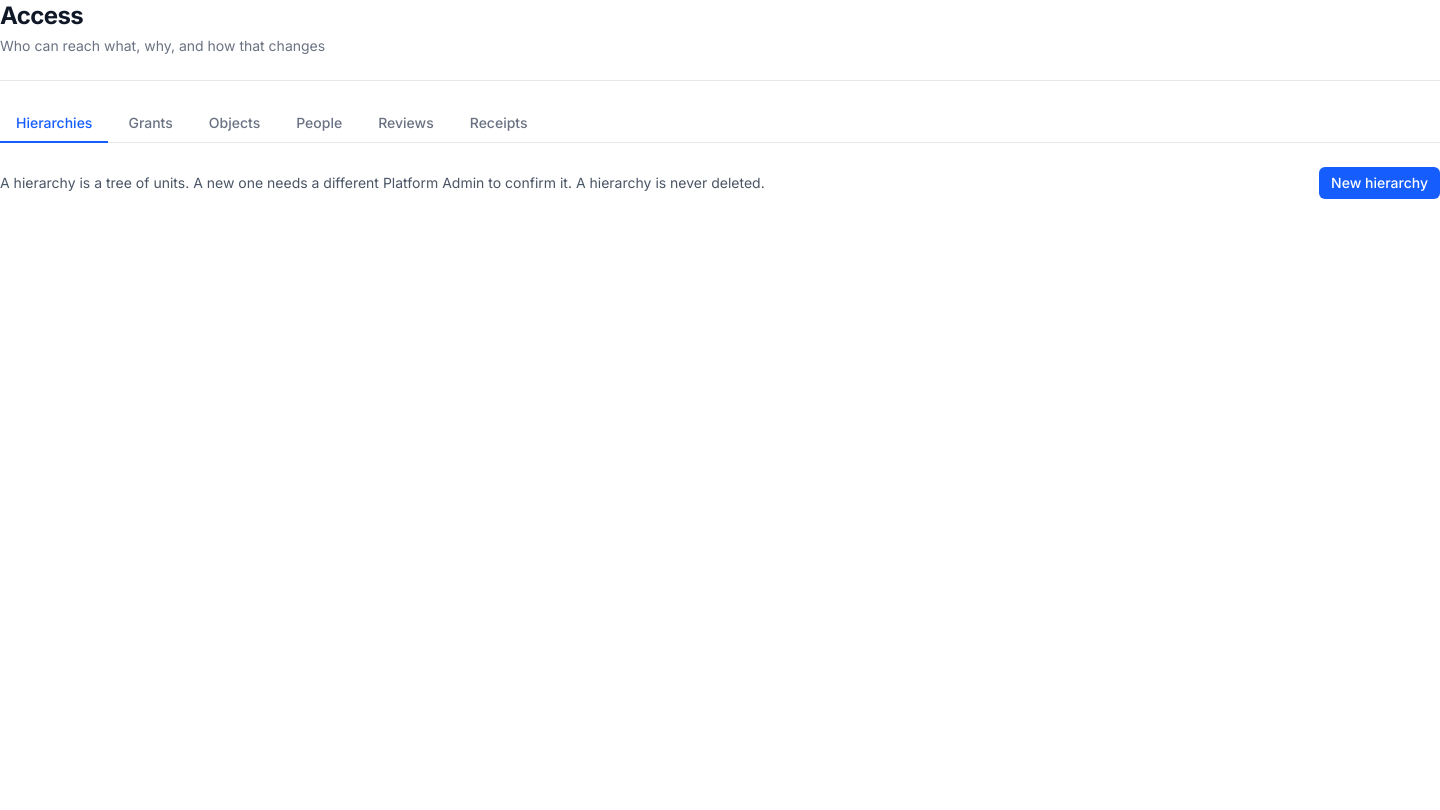
Test: Access section: hierarchies › New hierarchy proposes a change and says who must confirm it
Click the button "New hierarchy": coordinates (1380, 183) [1319,167,1439,199]
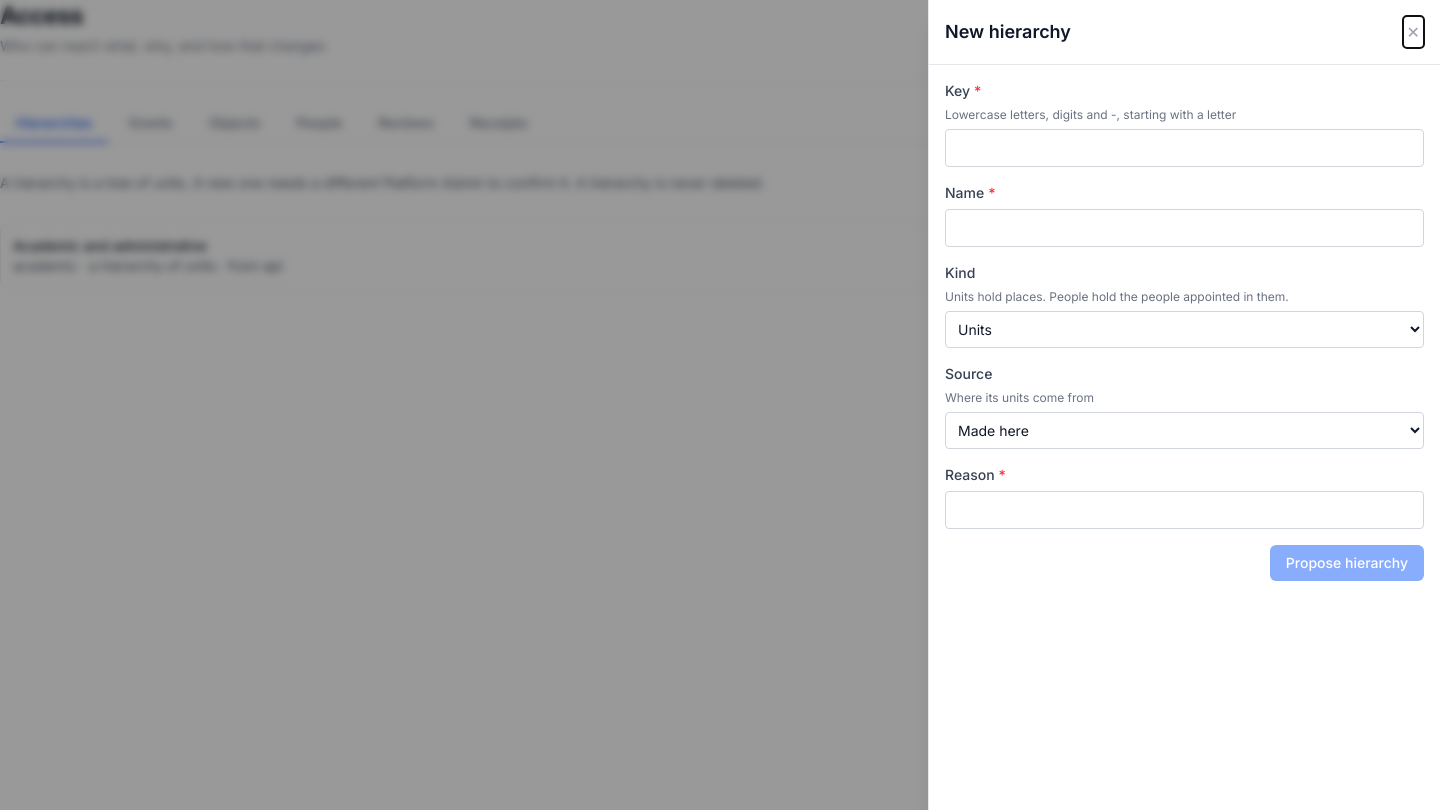
In the field labelled "Key*": coordinates (1184, 148) [945,129,1424,167], type "campus"
In the field labelled "Name*": coordinates (1184, 228) [945,209,1424,247], type "Campus"
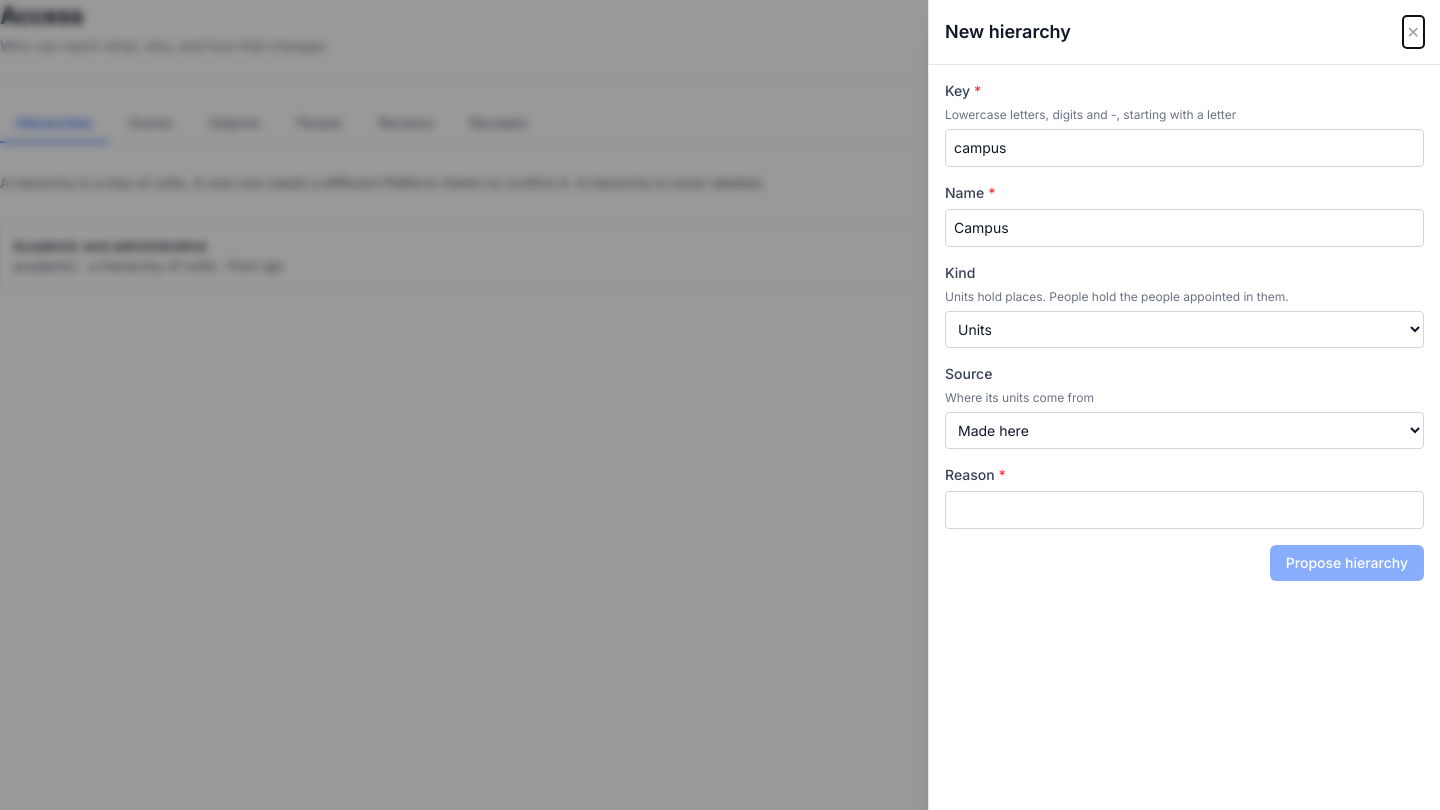
Select "People" in the dropdown labelled "Kind": coordinates (1184, 330) [945,311,1424,348]
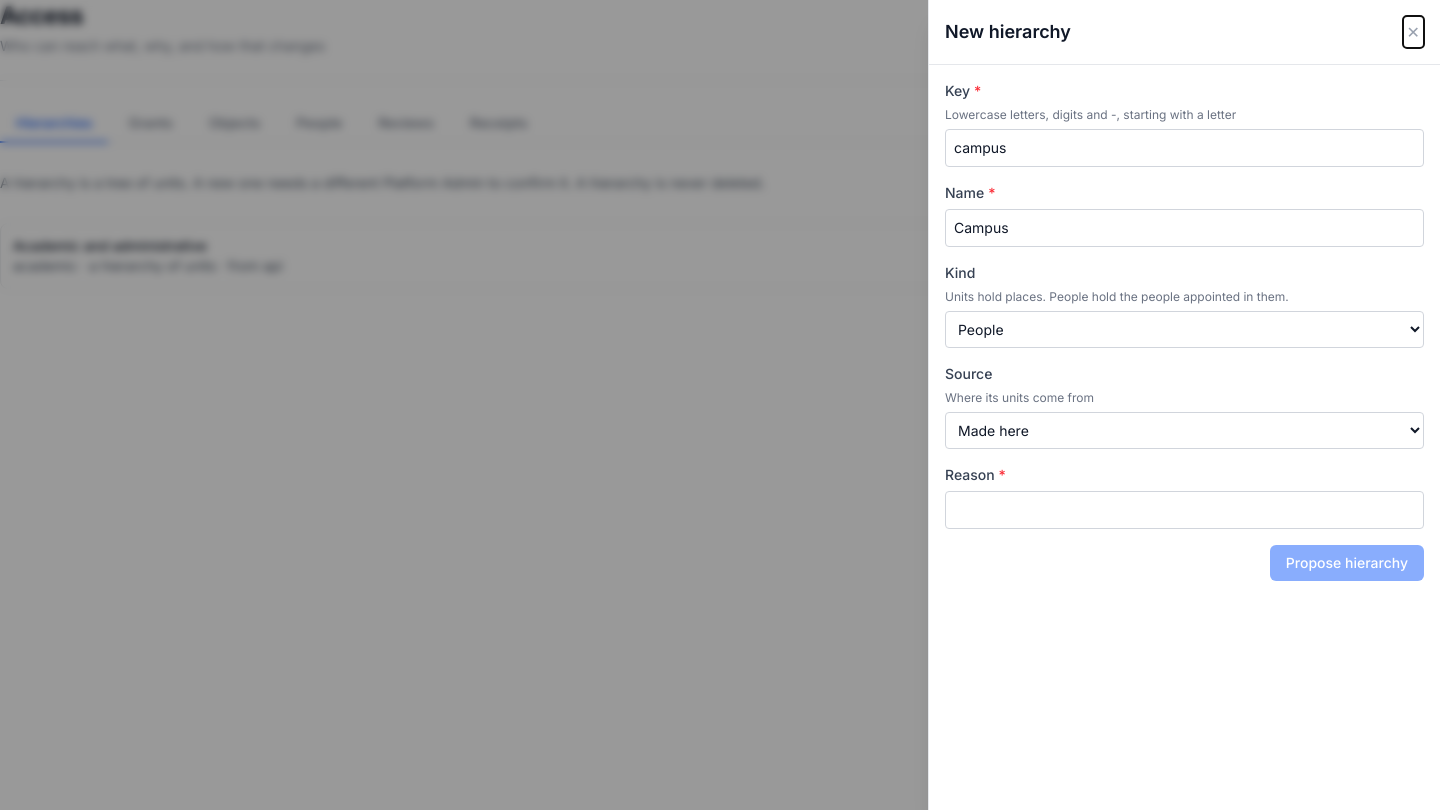
Select "Kept by SCIM" in the dropdown labelled "Source": coordinates (1184, 430) [945,412,1424,449]
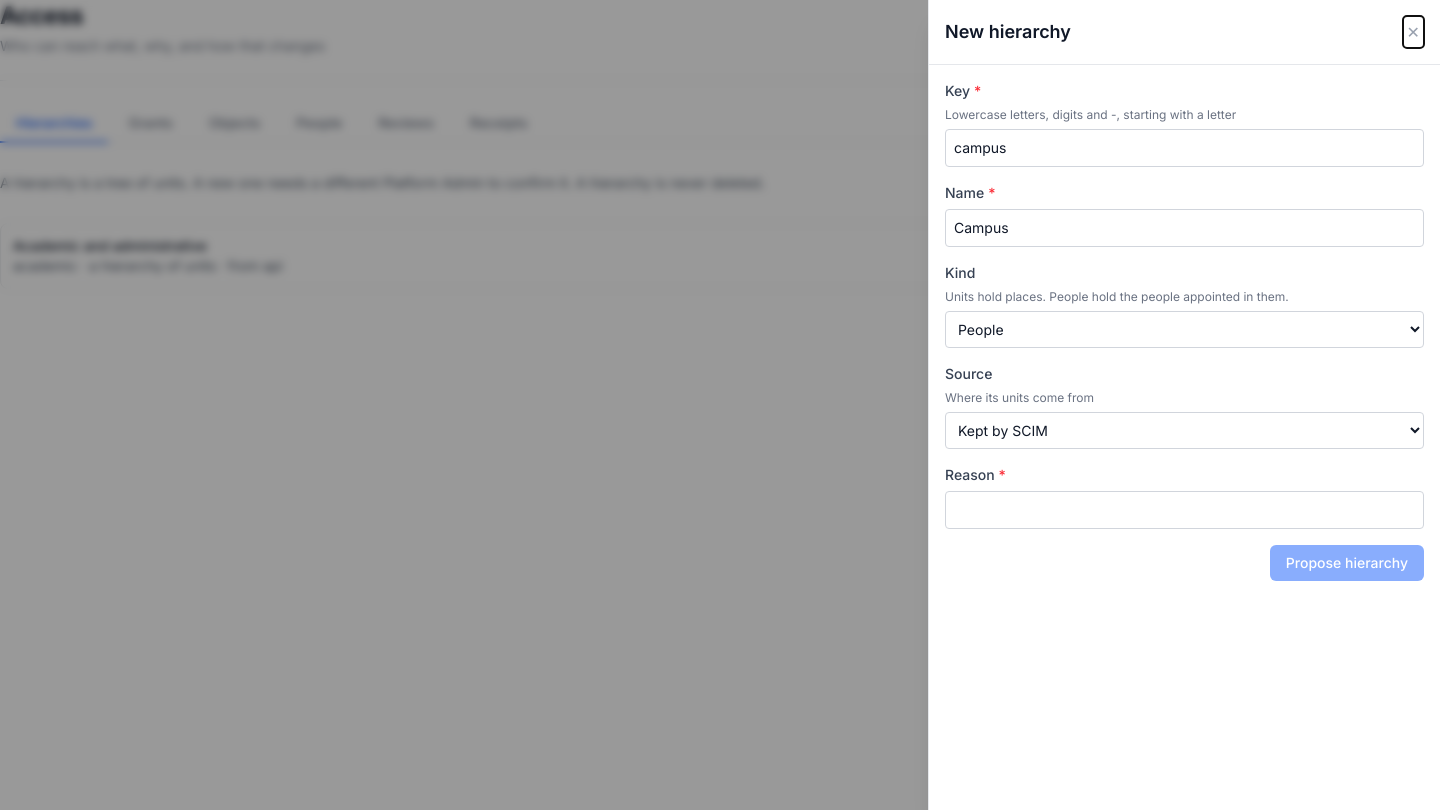
In the field labelled "Reason*": coordinates (1184, 510) [945,491,1424,529], type "Supervisors"
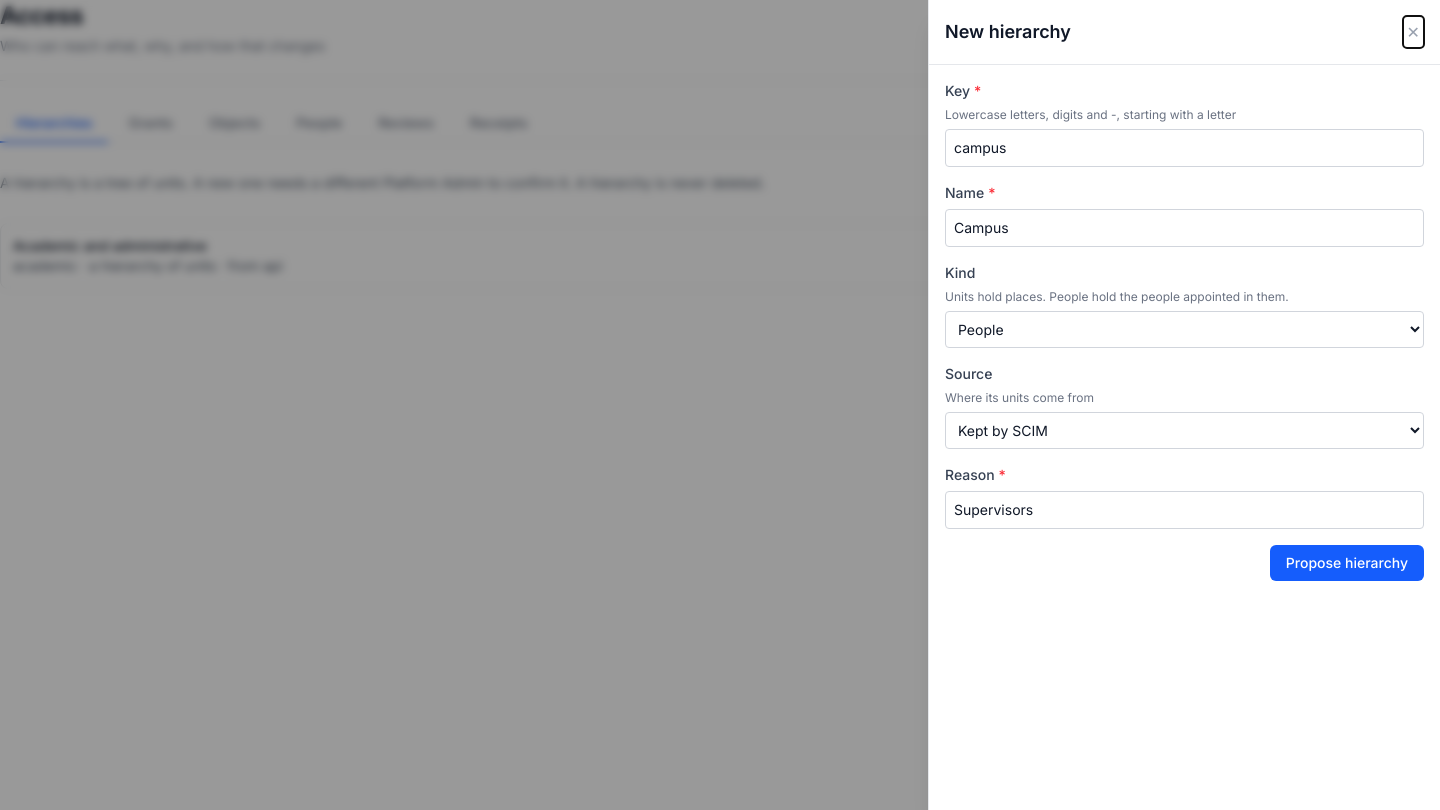
Click the button "Propose hierarchy": coordinates (1347, 563) [1270,545,1424,581]
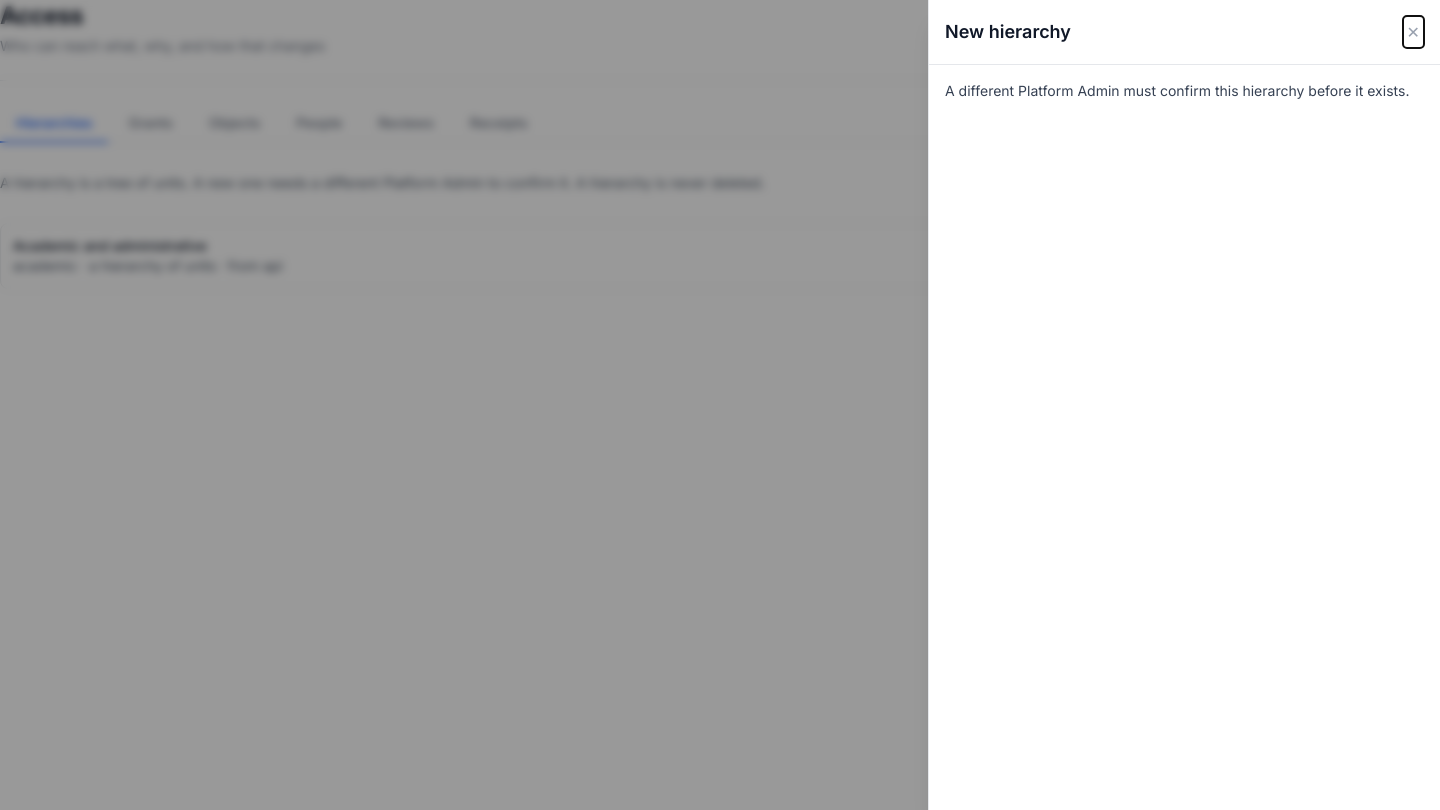
Result: the text "A different Platform Admin must confirm" is shown at [945,82,1409,99]
